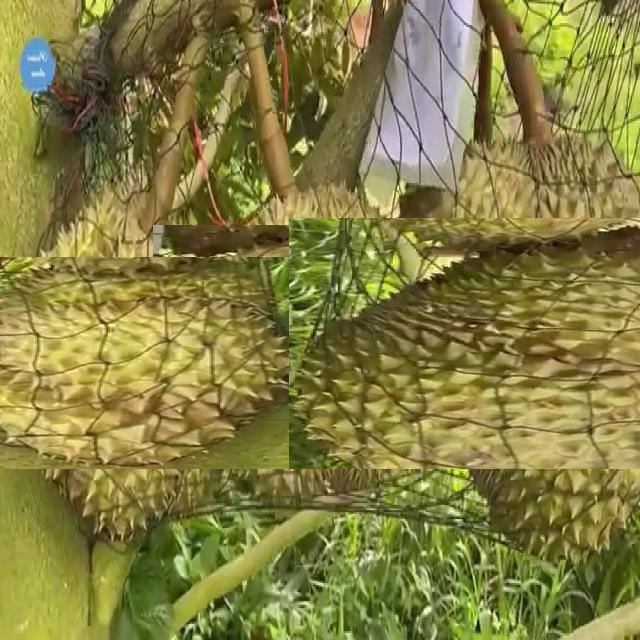durian: (339, 167, 640, 519), (0, 212, 271, 513), (178, 200, 455, 476)
